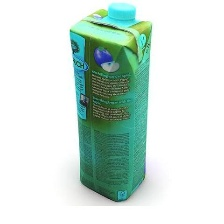carton: (65, 0, 158, 205)
